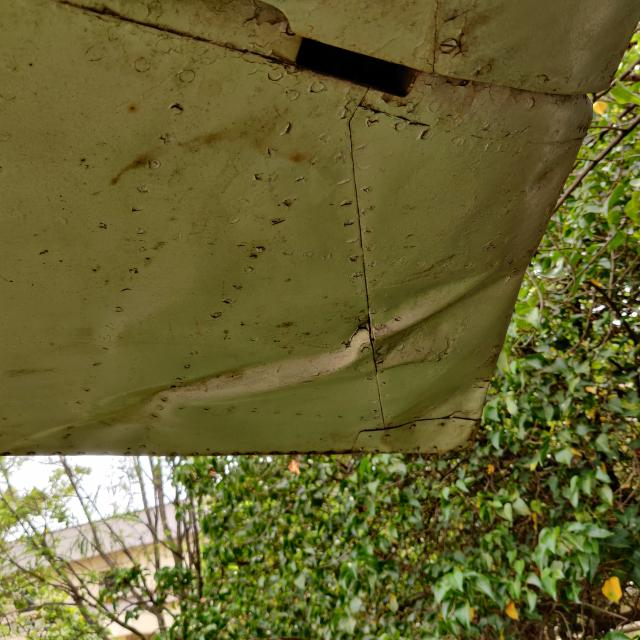crack: (332, 318, 375, 360)
dent: (77, 243, 533, 467), (365, 371, 497, 480)
